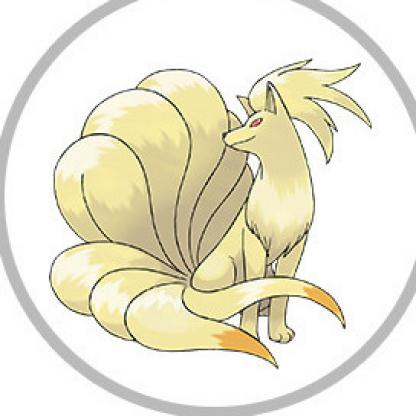Ninetales: (61, 49, 358, 376)
